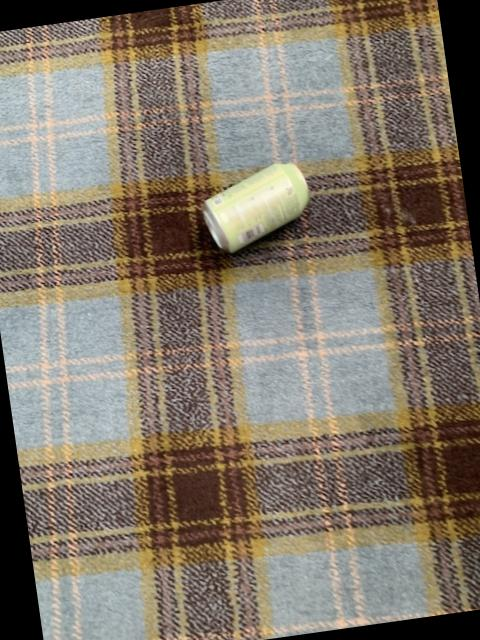metal: (201, 161, 307, 250)
